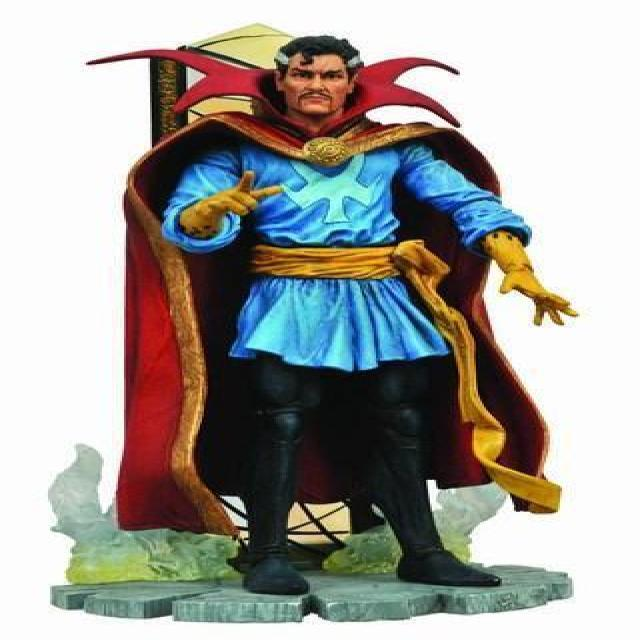doctor_strange: (151, 17, 589, 574)
